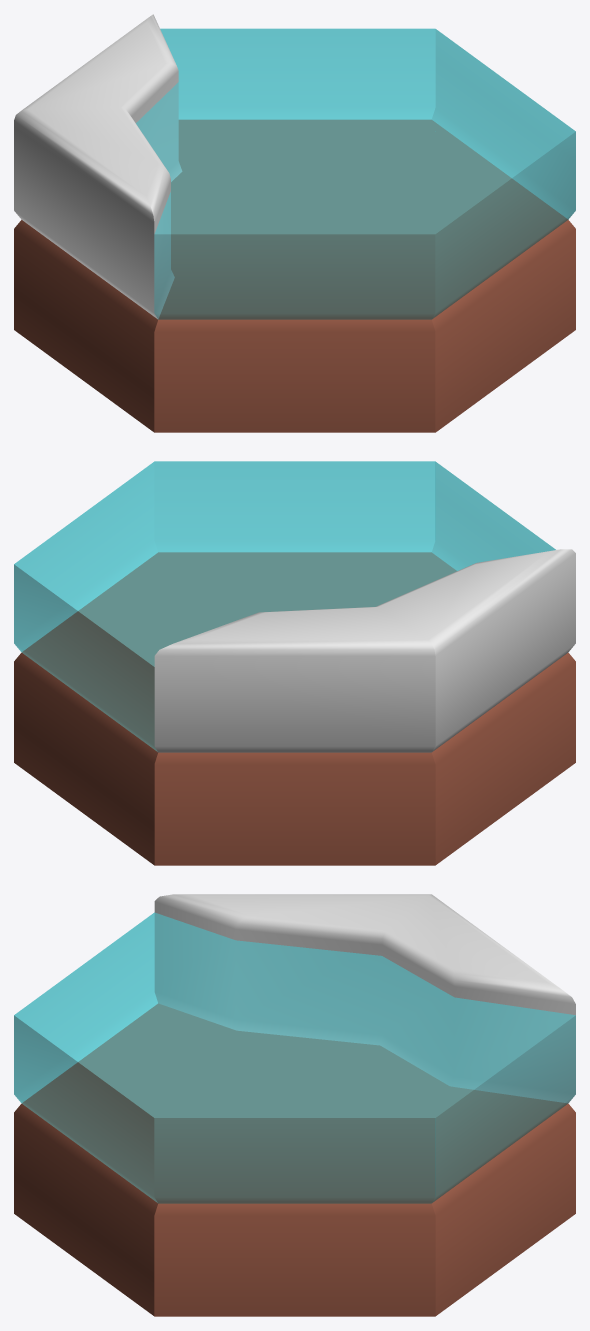
The model's file is hex_snow_waterA_detail.fbx.
The picture shows the model from 3 angles, top to bottom: view 1: azimuth 30°, elevation 25°; view 2: azimuth 150°, elevation 25°; view 3: azimuth 270°, elevation 25°; orthographic projection.
Visible parts, largest first — view 1: hex_snow_waterA_detail; view 2: hex_snow_waterA_detail; view 3: hex_snow_waterA_detail.
Boxes of the visible parts, x1,y1,x2,y2 form: hex_snow_waterA_detail: [14, 14, 575, 432]; hex_snow_waterA_detail: [14, 461, 575, 865]; hex_snow_waterA_detail: [14, 894, 575, 1316].
Bounding box in the file's own units: 2 × 1 × 2.31.
